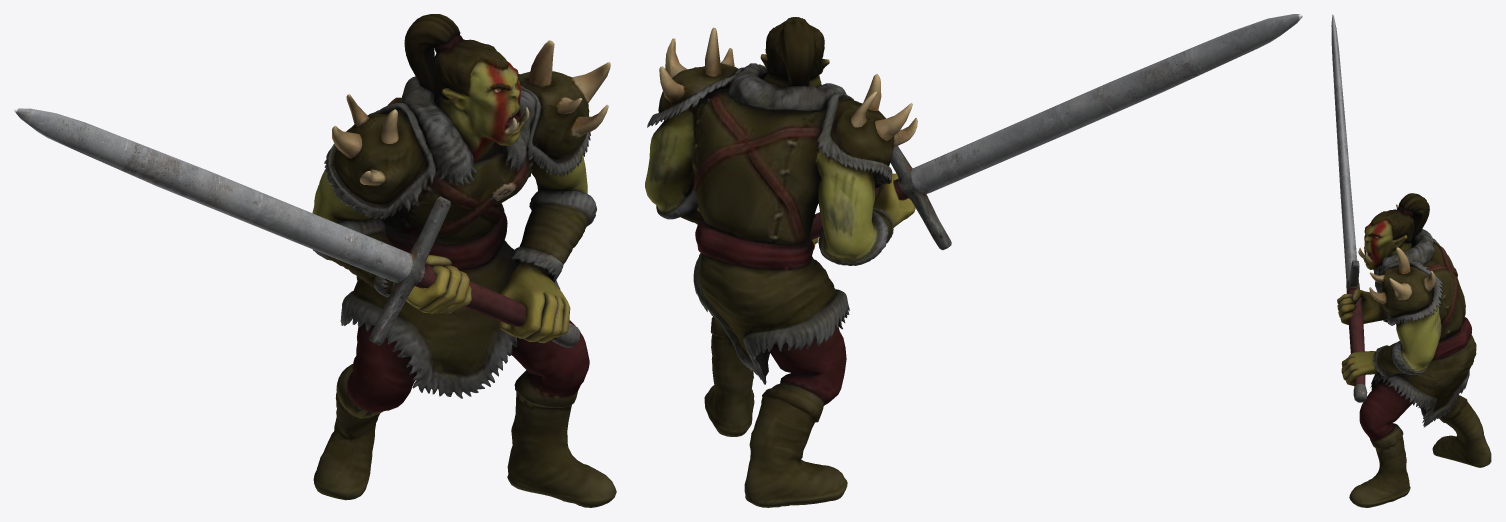
Rendered from MZ4250 - Orc Male Warrior_red_greatsword.glb.
3 views of the same model, side by side, from view 1: azimuth 30°, elevation 25°; view 2: azimuth 150°, elevation 25°; view 3: azimuth 270°, elevation 25° (orthographic). The views are drawn at different scales.
Visible parts, largest first — view 1: Greatsword.003; view 2: Greatsword.003; view 3: Greatsword.003.
Boxes of the visible parts, x1,y1,x2,y2 form: Greatsword.003: [14, 14, 616, 507]; Greatsword.003: [645, 14, 1302, 507]; Greatsword.003: [1331, 14, 1491, 507].
Bounding box in the file's own units: 54.77 × 45.27 × 20.45.
Materials: 2 (2 with a texture image).
